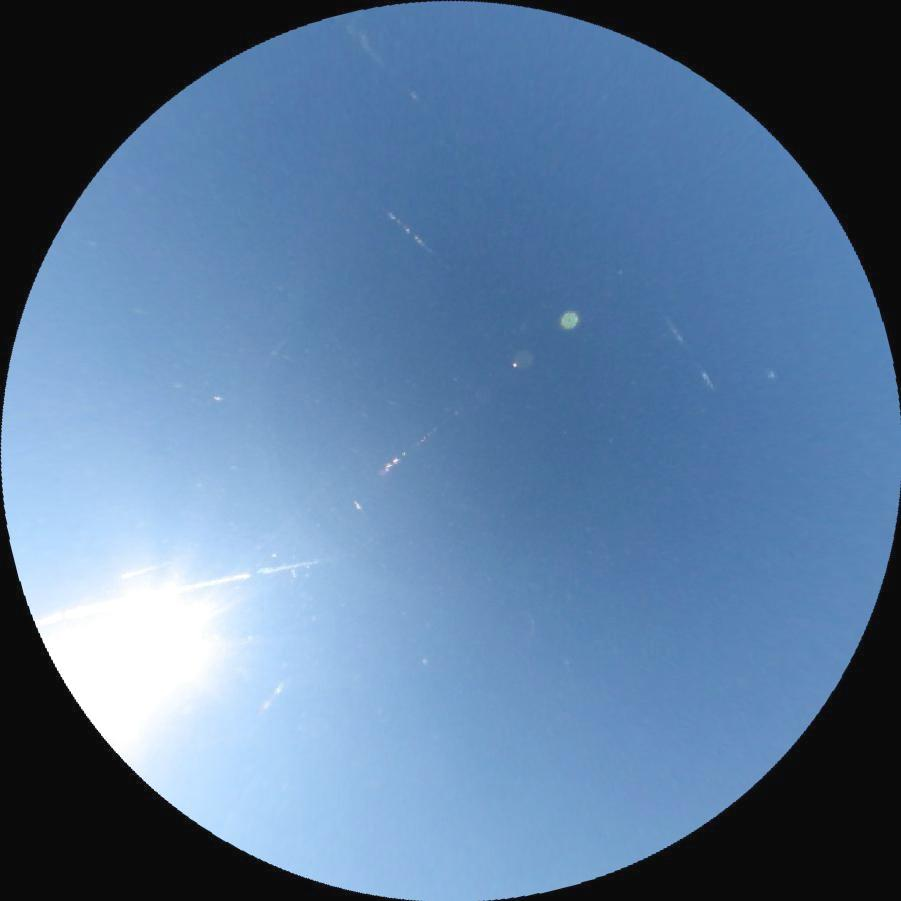contrail young: (261, 336, 290, 364)
parasite: (33, 550, 328, 628), (347, 21, 426, 105), (662, 311, 719, 393), (383, 210, 452, 271)
sun: (28, 535, 263, 768)
unknow: (121, 555, 183, 579)
